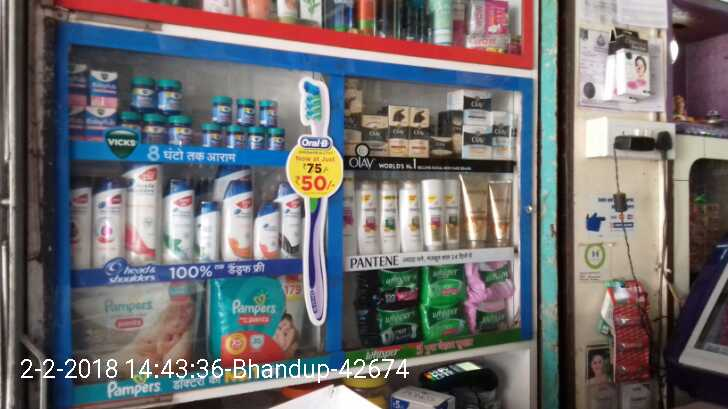vicks: (121, 73, 195, 147), (202, 94, 286, 151), (68, 61, 115, 145)
